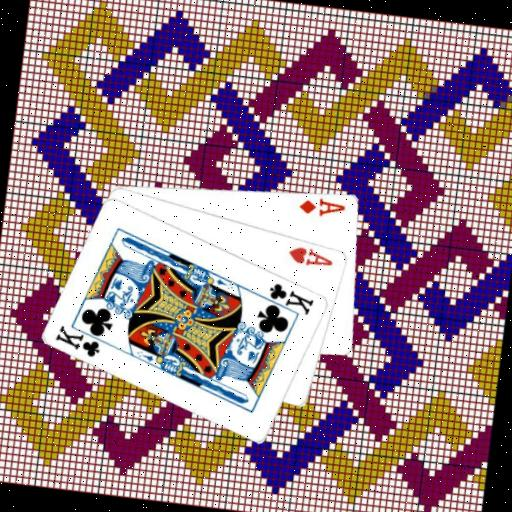AD: (296, 193, 348, 221)
AH: (285, 242, 337, 271)
KC: (52, 319, 114, 361), (257, 278, 318, 319)
